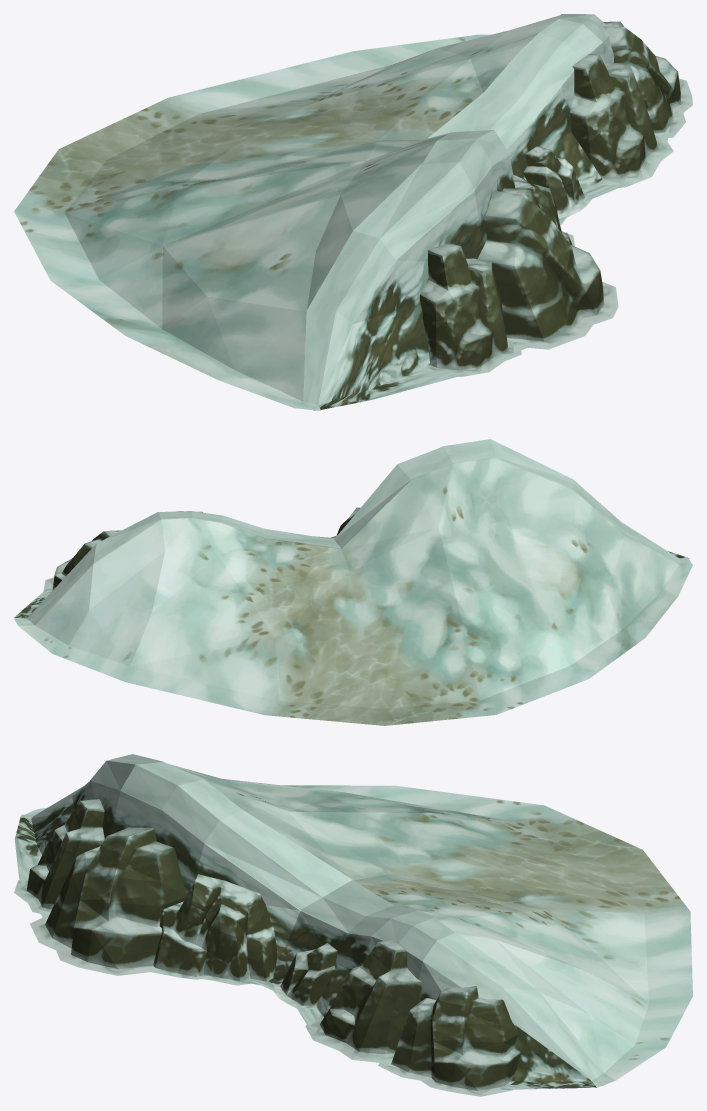
File: berm_wedge_1.fbx
The picture shows the model from 3 angles, top to bottom: view 1: azimuth 30°, elevation 25°; view 2: azimuth 150°, elevation 25°; view 3: azimuth 270°, elevation 25°; orthographic projection. The views are drawn at different scales.
Parts seen in each view (by area): view 1: obj3.004; view 2: obj3.004; view 3: obj3.004.
Boxes of the visible parts, x1,y1,x2,y2 form: obj3.004: [14, 14, 692, 410]; obj3.004: [14, 439, 692, 725]; obj3.004: [14, 754, 692, 1096].
Bounding box in the file's own units: 17.73 × 3.85 × 16.34.
